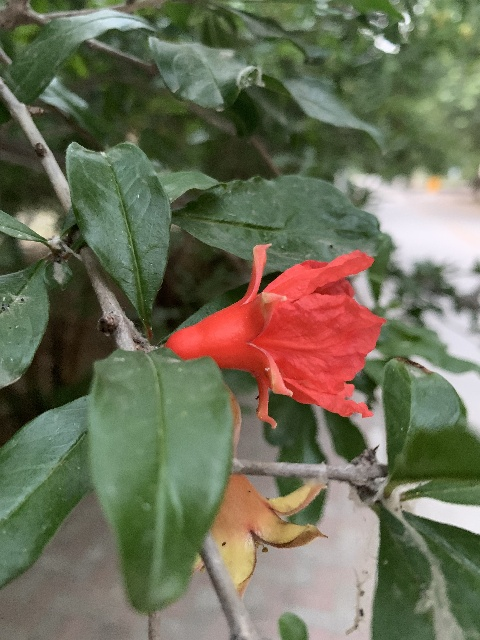early-fruit: (188, 379, 326, 602)
flower: (164, 242, 386, 426)
